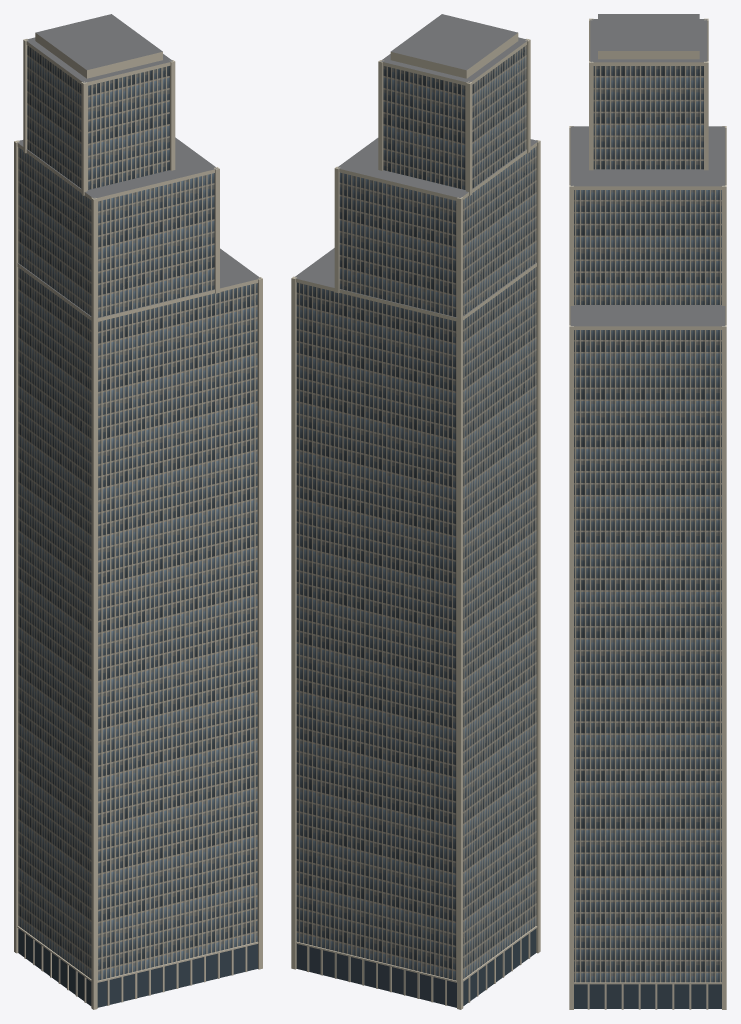
The model's file is hudson_yards_35.glb.
3 renders of one model, left to right at view 1: azimuth 30°, elevation 25°; view 2: azimuth 150°, elevation 25°; view 3: azimuth 270°, elevation 25°, orthographic.
Visible parts, largest first — view 1: hudson_yards_35; view 2: hudson_yards_35; view 3: hudson_yards_35.
Part boxes in pixels (box(x1,y1,x2,y2)): hudson_yards_35: box(14, 14, 262, 1009); hudson_yards_35: box(291, 14, 540, 1009); hudson_yards_35: box(569, 14, 726, 1009).
Size of the model in its own units: 58.88 by 308 by 47.9.
2 materials, 2 textured.
